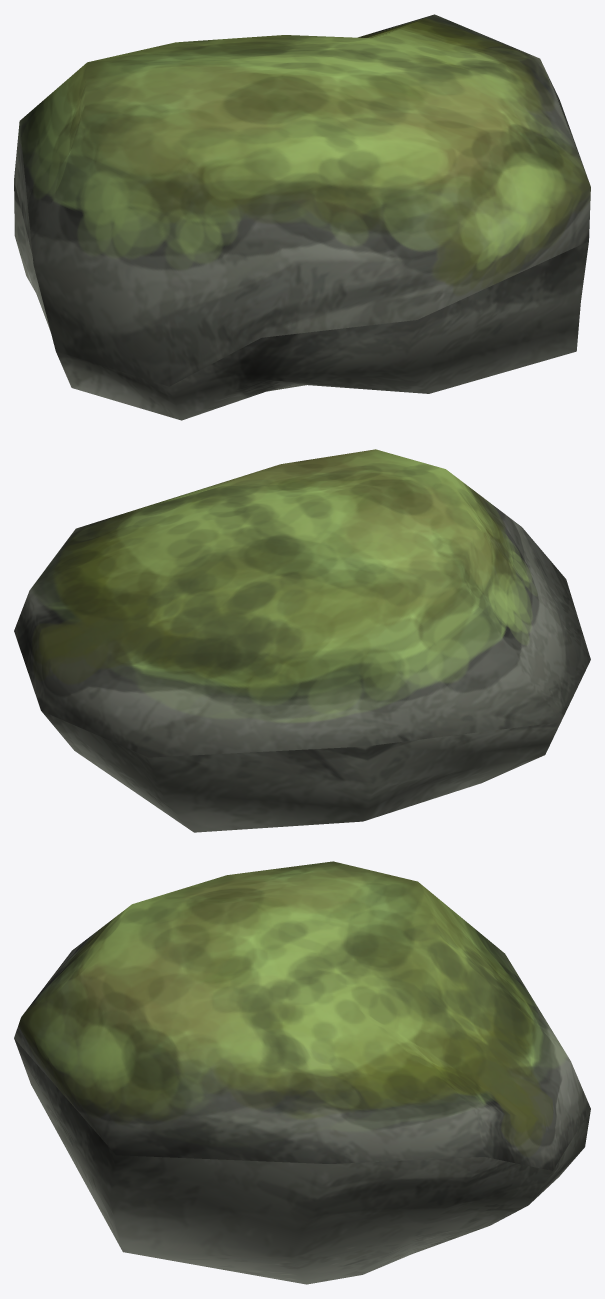
File: Rock(Mossy) (1).FBX
3 views of the same model, one above another, from view 1: azimuth 30°, elevation 25°; view 2: azimuth 150°, elevation 25°; view 3: azimuth 270°, elevation 25° (orthographic). The views are drawn at different scales.
Visible parts, largest first — view 1: MossRock; view 2: MossRock; view 3: MossRock.
Part boxes in pixels (box(x1,y1,x2,y2)): MossRock: box(14, 14, 590, 420); MossRock: box(14, 449, 590, 832); MossRock: box(14, 861, 590, 1284).
Size of the model in its own units: 3 by 1.77 by 3.02.
